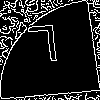L: (25, 24, 62, 73)
